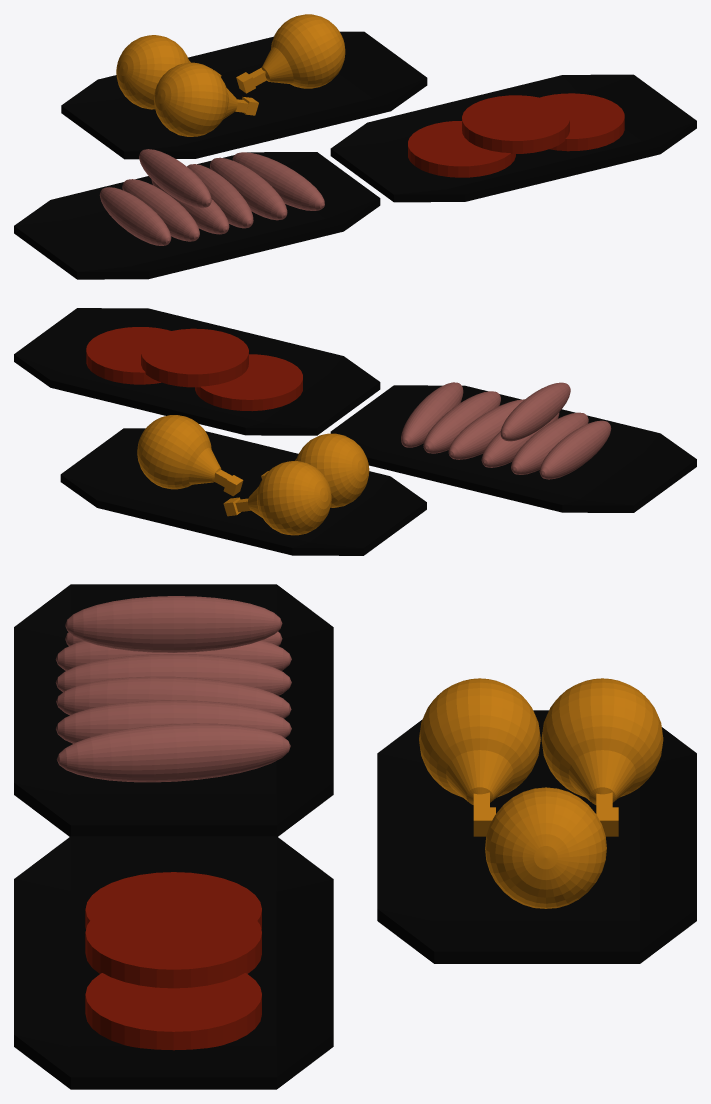
Rendered from Meat2.fbx.
3 views of the same model, one above another, from view 1: azimuth 30°, elevation 25°; view 2: azimuth 150°, elevation 25°; view 3: azimuth 270°, elevation 25° (orthographic). The views are drawn at different scales.
Visible parts, largest first — view 1: Cube.002, Cube, Cube.001, Cylinder.002, Sphere.010, Sphere.007, Cylinder.001, Sphere.009, Cylinder, Sphere, Sphere.005, Sphere.001 (+4 smaller); view 2: Cube.002, Cube, Cube.001, Cylinder.002, Sphere.010, Sphere.009, Cylinder.001, Sphere.007, Cylinder, Sphere.001, Sphere.005, Sphere.002 (+4 smaller); view 3: Cube, Cube.002, Cube.001, Cylinder.002, Sphere.009, Sphere.007, Sphere.010, Cylinder, Sphere, Sphere.005, Sphere.002, Sphere.003 (+3 smaller).
Boxes of the visible parts, x1,y1,x2,y2 form: Cube.002: (61, 31, 427, 159); Cube: (330, 74, 696, 202); Cube.001: (14, 152, 380, 279); Cylinder.002: (462, 95, 569, 153); Sphere.010: (236, 14, 345, 93); Sphere.007: (154, 62, 258, 136); Cylinder.001: (408, 121, 515, 177); Sphere.009: (116, 35, 221, 109); Cylinder: (540, 93, 624, 151); Sphere: (232, 152, 324, 210); Sphere.005: (139, 149, 211, 207); Sphere.001: (99, 187, 171, 245); Cube.002: (60, 428, 426, 555); Cube: (14, 308, 380, 435); Cube.001: (330, 385, 696, 512); Cylinder.002: (141, 328, 248, 387); Sphere.010: (137, 415, 243, 496); Sphere.009: (223, 461, 331, 535); Cylinder.001: (195, 354, 302, 411); Sphere.007: (261, 433, 369, 507); Cylinder: (86, 327, 170, 384); Sphere.001: (539, 420, 611, 479); Sphere.005: (500, 382, 570, 441); Sphere.002: (423, 391, 500, 453); Cube: (14, 836, 333, 1089); Cube.002: (377, 710, 696, 963); Cube.001: (14, 584, 333, 836); Cylinder.002: (85, 895, 261, 988); Sphere.009: (541, 678, 663, 836); Sphere.007: (419, 678, 540, 836); Sphere.010: (485, 787, 606, 908); Cylinder: (85, 973, 261, 1050); Sphere: (57, 723, 290, 782); Sphere.005: (65, 596, 282, 652); Sphere.002: (56, 700, 291, 743); Sphere.003: (56, 676, 291, 718).
Size of the model in its own units: 1180 by 129 by 691.
